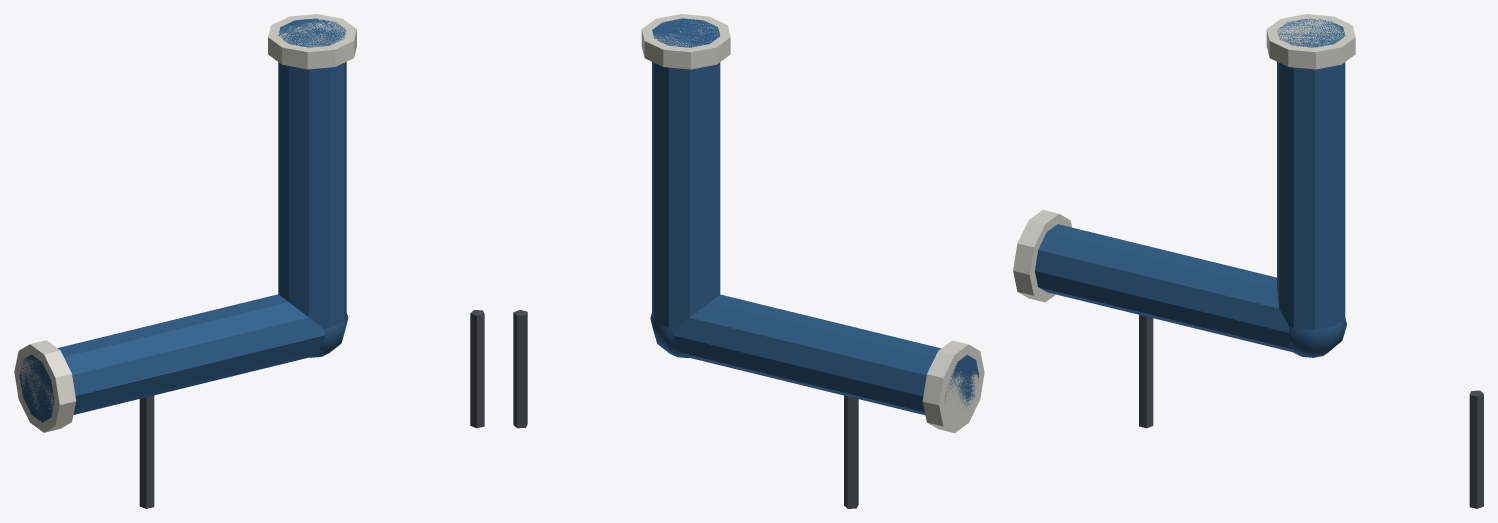
File: PipeL_Riser.fbx
The picture shows the model from 3 angles, left to right: view 1: azimuth 30°, elevation 25°; view 2: azimuth 150°, elevation 25°; view 3: azimuth 330°, elevation 25°; orthographic projection.
Visible parts, largest first — view 1: PipeL_Riser_Body; view 2: PipeL_Riser_Body; view 3: PipeL_Riser_Body.
Part boxes in pixels (x1,y1,x2,y2): PipeL_Riser_Body: (14, 14, 484, 508); PipeL_Riser_Body: (513, 14, 984, 508); PipeL_Riser_Body: (1013, 14, 1483, 508).
Size of the model in its own units: 0.8114 by 0.75 by 0.143.
